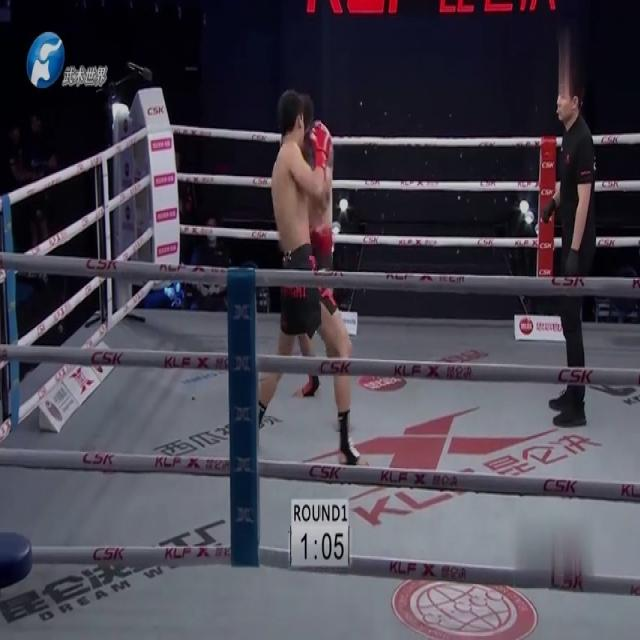fight: (265, 82, 356, 474)
non-fight: (538, 72, 602, 425)
